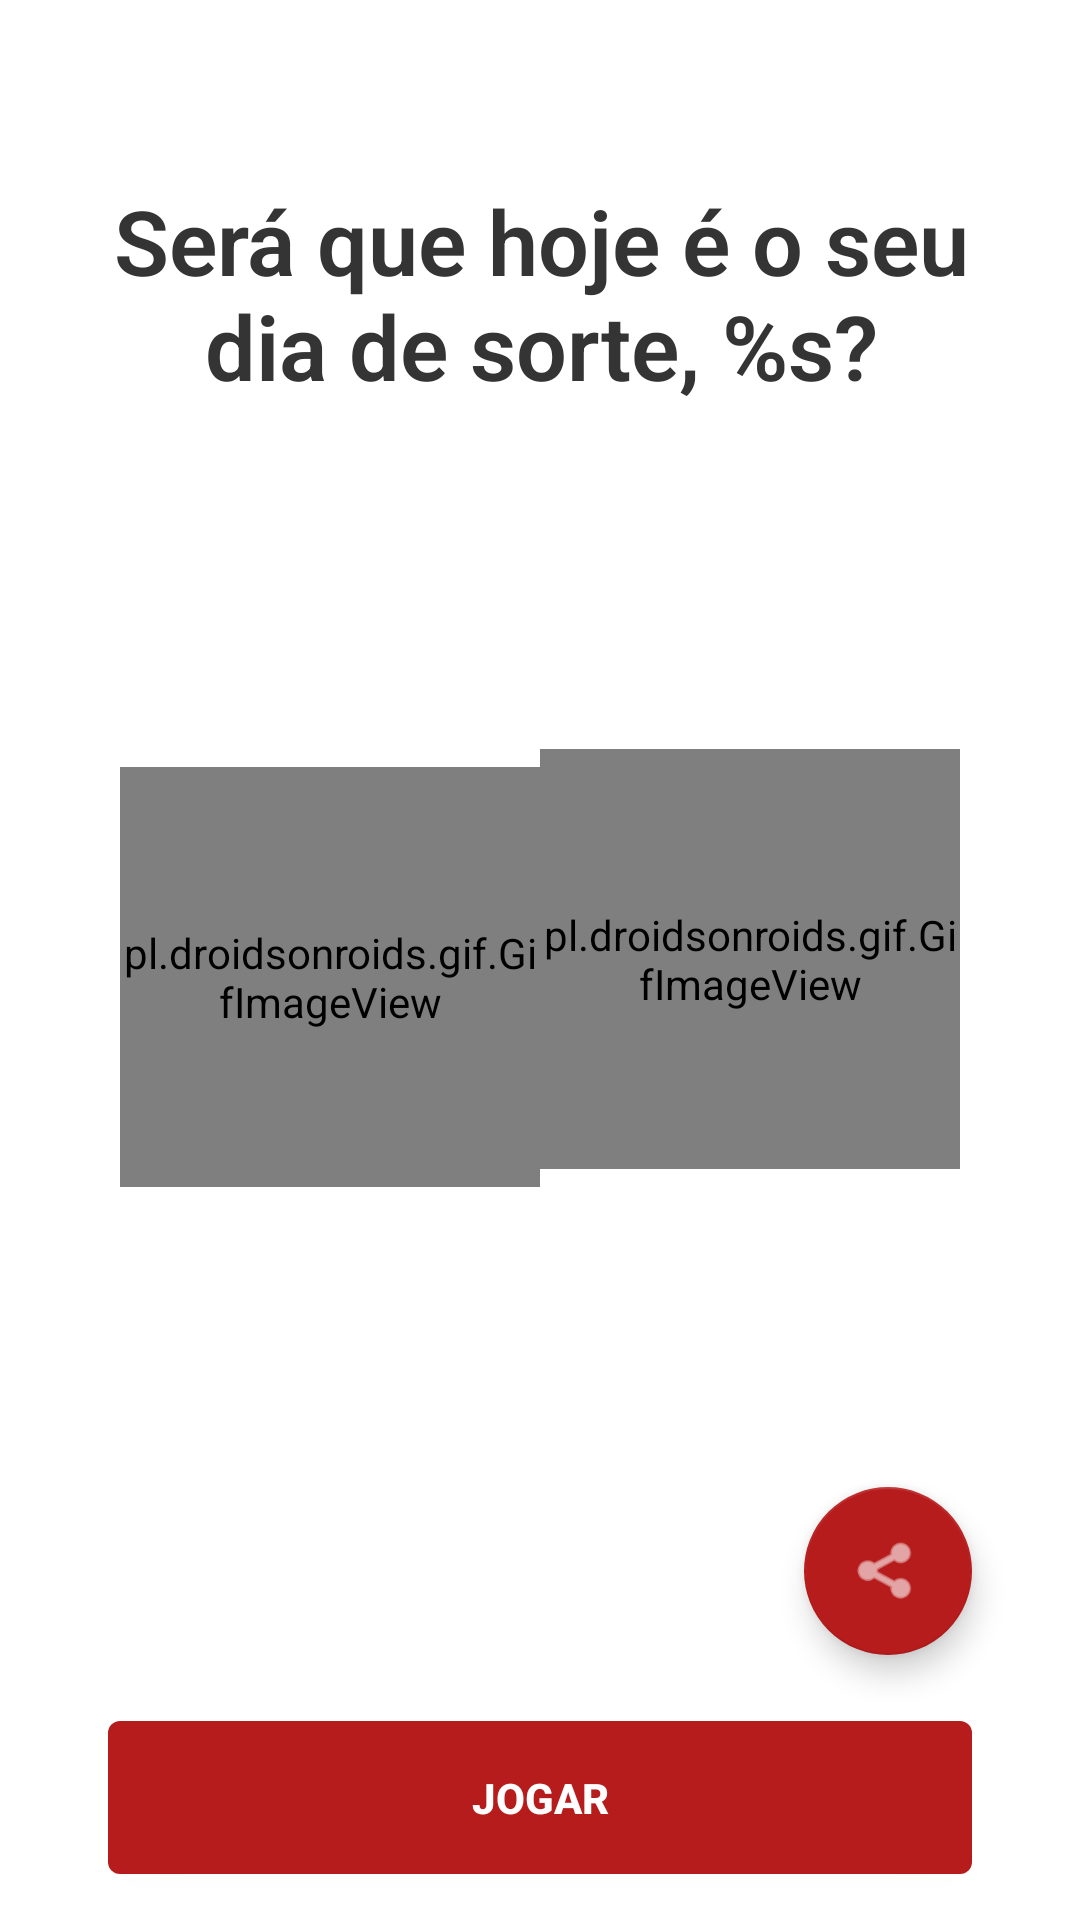

Icon bounding boxes for this 1080px x 1920px phone screenshot, format region(x1, y1, x2, y2):
share: region(804, 1487, 972, 1655)
